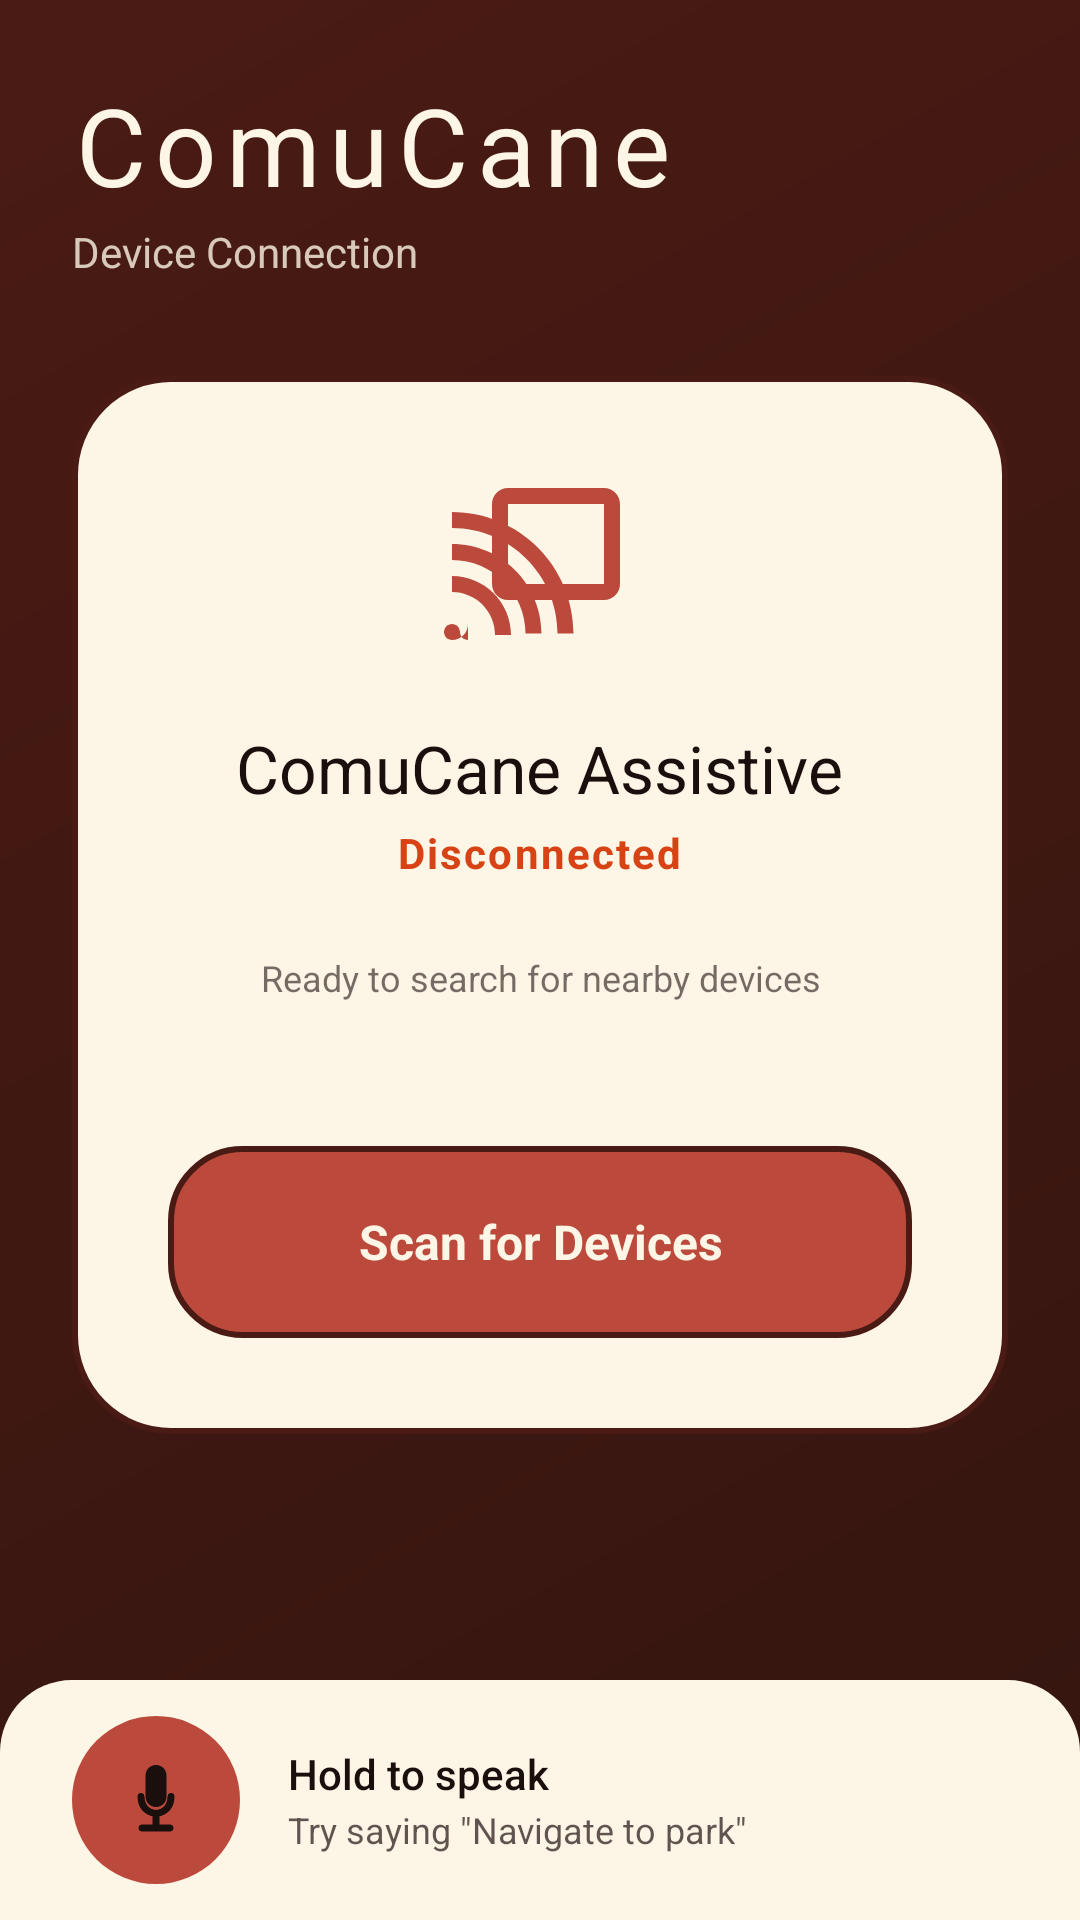

Icon click points for this 1080x1920 phone screenshot, format (x,y):
voice mic: (156,1798)
